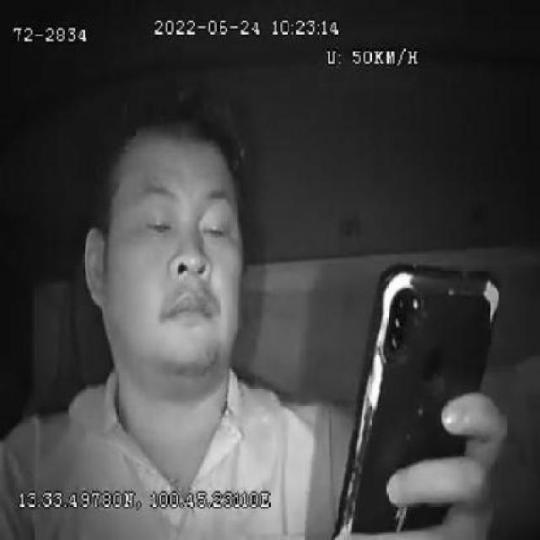phone: (333, 259, 502, 540)
